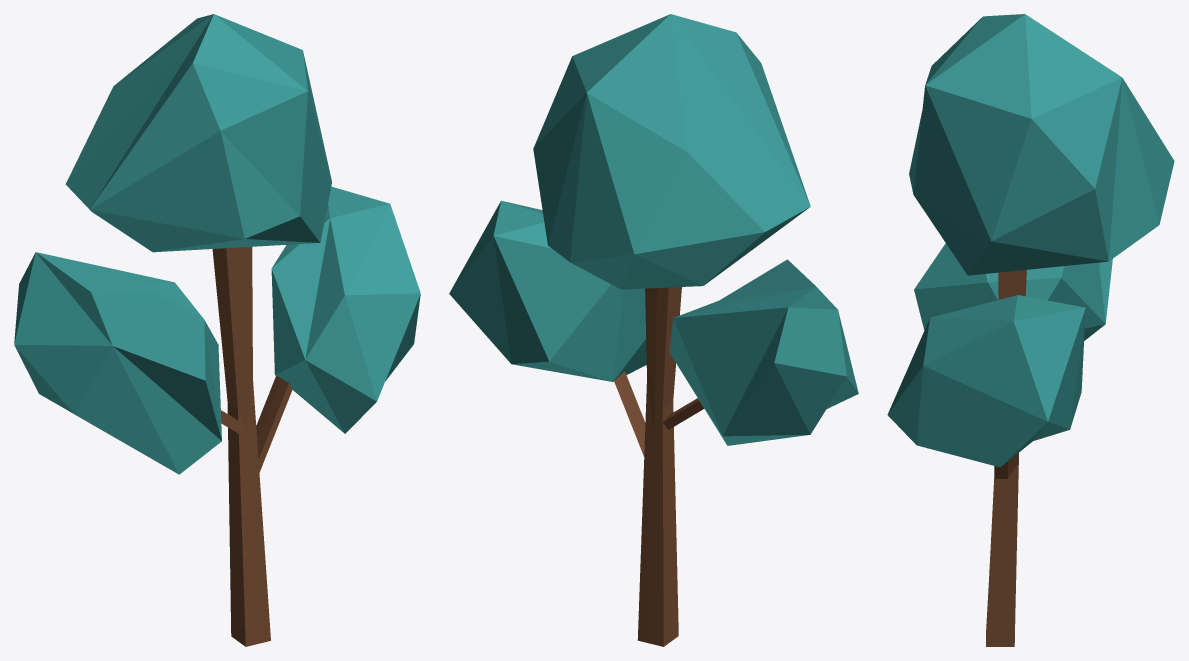
The model's file is Tree_22_Blue.fbx.
3 views of the same model, side by side, from view 1: azimuth 30°, elevation 25°; view 2: azimuth 150°, elevation 25°; view 3: azimuth 270°, elevation 25° (orthographic). The views are drawn at different scales.
Visible parts, largest first — view 1: Tree_22_Blue_Part_1, Tree_22_Blue_Part_2; view 2: Tree_22_Blue_Part_1, Tree_22_Blue_Part_2; view 3: Tree_22_Blue_Part_1, Tree_22_Blue_Part_2.
Part boxes in pixels (box(x1,y1,x2,y2)): Tree_22_Blue_Part_1: box(14, 14, 420, 474); Tree_22_Blue_Part_2: box(212, 246, 292, 646); Tree_22_Blue_Part_1: box(449, 14, 858, 445); Tree_22_Blue_Part_2: box(614, 287, 704, 646); Tree_22_Blue_Part_1: box(887, 14, 1174, 467); Tree_22_Blue_Part_2: box(986, 270, 1026, 646).
Size of the model in its own units: 509 by 777 by 329.
